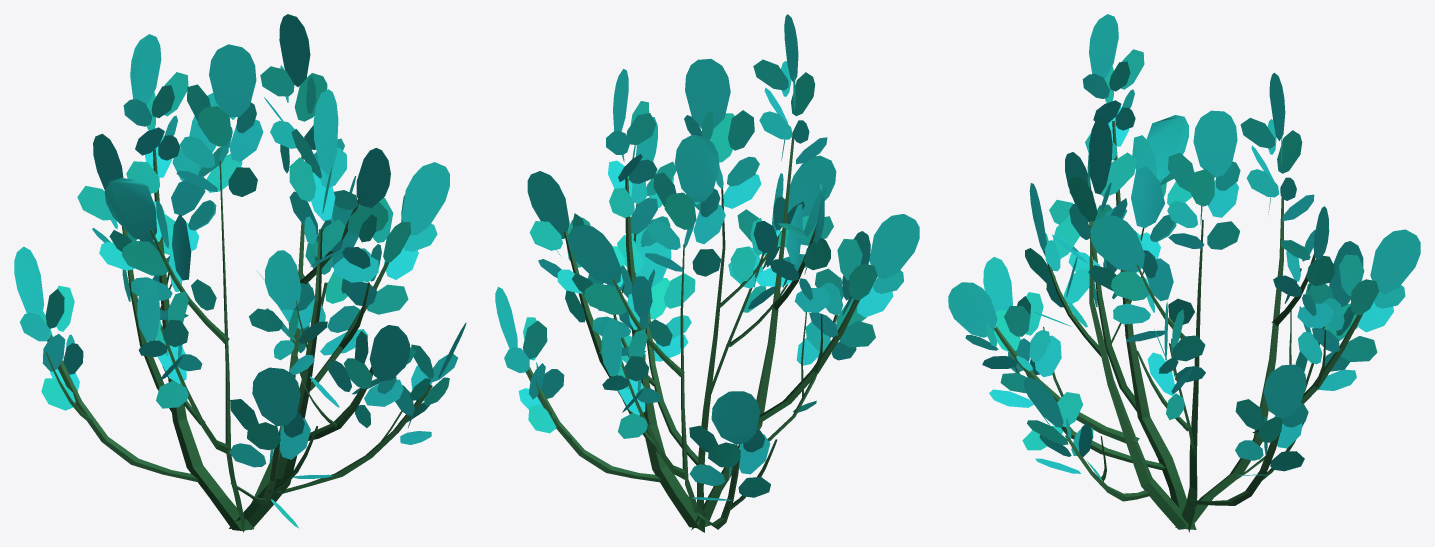
Rendered from SM_Bush_1.fbx.
3 renders of one model, left to right at view 1: azimuth 30°, elevation 25°; view 2: azimuth 150°, elevation 25°; view 3: azimuth 270°, elevation 25°, orthographic. The views are drawn at different scales.
Parts seen in each view (by area): view 1: SM_Bush_1; view 2: SM_Bush_1; view 3: SM_Bush_1.
Part boxes in pixels (x1,y1,x2,y2): SM_Bush_1: (14,14,466,532); SM_Bush_1: (495,14,919,532); SM_Bush_1: (948,14,1420,532).
Bounding box in the file's own units: 37.11 × 51.38 × 44.87.
